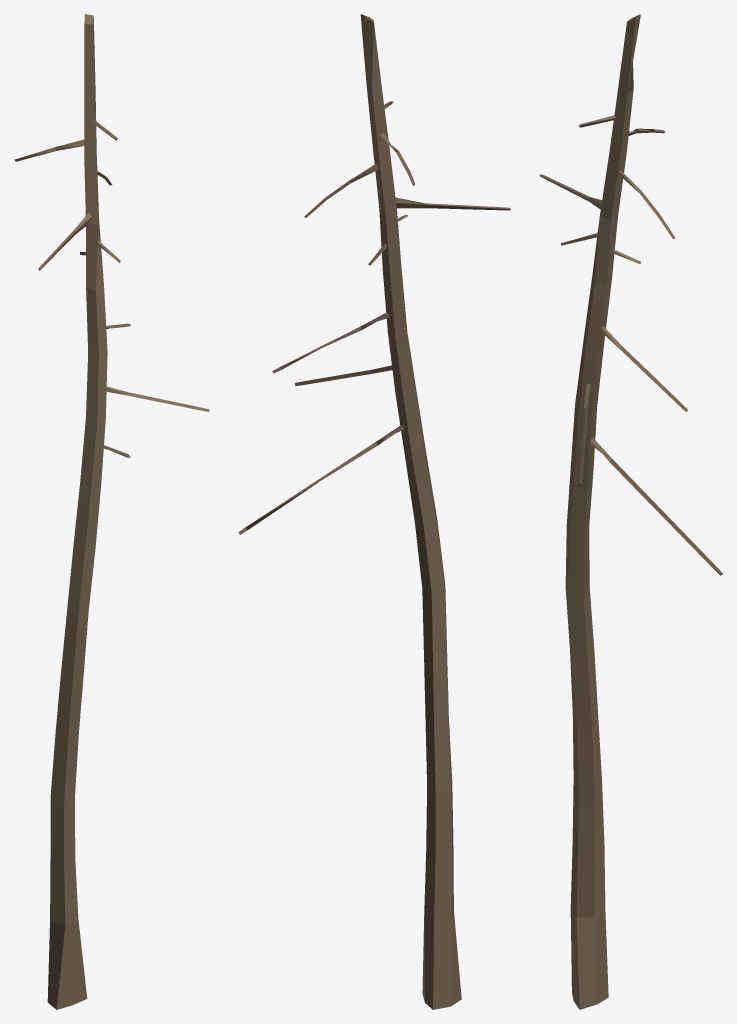
The model's file is pine_bare_12.FBX.
3 views of the same model, side by side, from view 1: azimuth 30°, elevation 25°; view 2: azimuth 150°, elevation 25°; view 3: azimuth 270°, elevation 25° (orthographic). The views are drawn at different scales.
Visible parts, largest first — view 1: pine_bare_12; view 2: pine_bare_12; view 3: pine_bare_12.
Boxes of the visible parts, x1,y1,x2,y2 form: pine_bare_12: (14, 14, 209, 1009); pine_bare_12: (238, 14, 510, 1009); pine_bare_12: (539, 14, 722, 1009).
Size of the model in its own units: 1.68 by 8.13 by 1.34.
